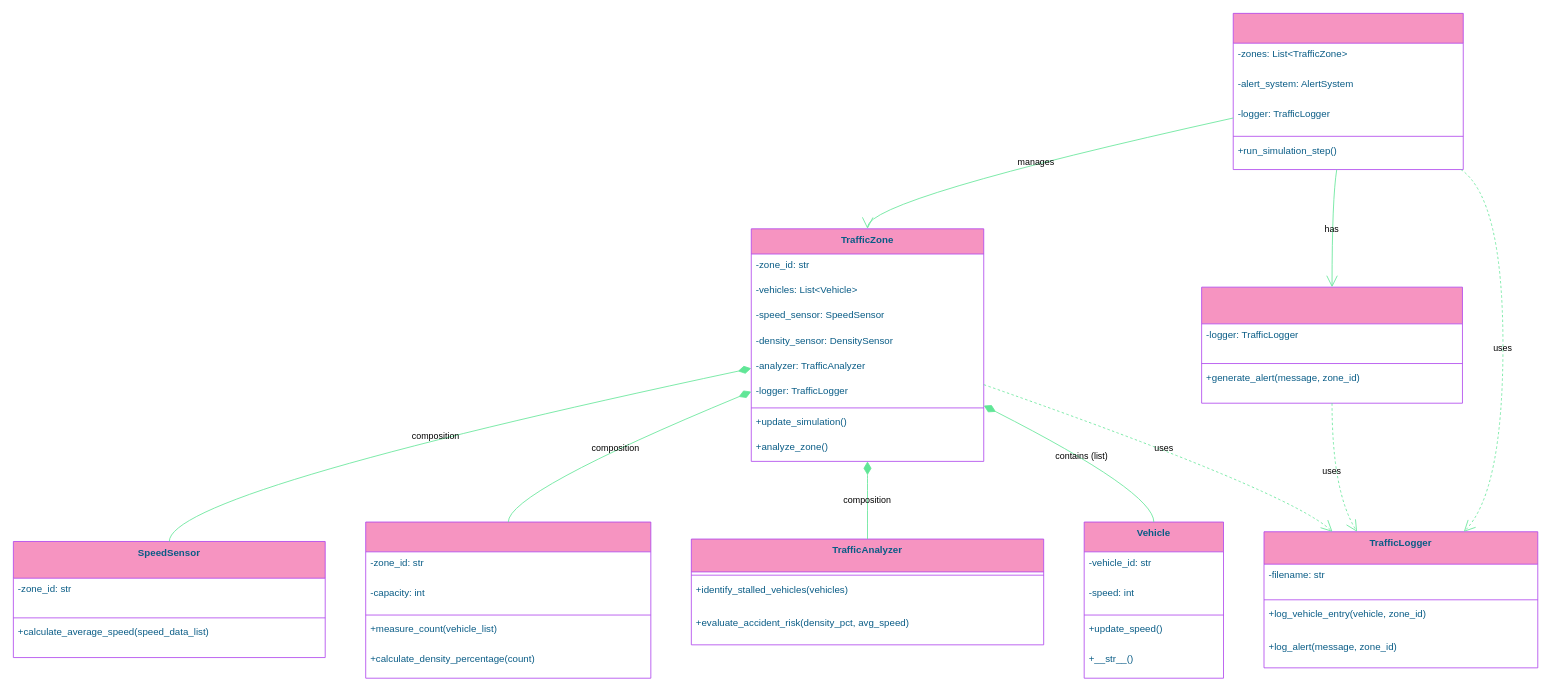
Some shapes in this 1551 by 692 pixel diagram are drawn without their labels. Each missing label, with the box of its shape:
AlertSystem: (1201, 286, 1462, 403)
DensitySensor: (365, 521, 651, 678)
FlowSenseSystem: (1232, 13, 1463, 170)
